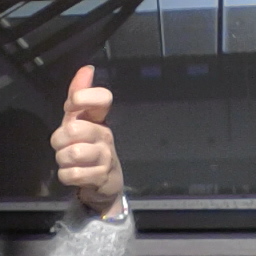G: (48, 62, 128, 203)
